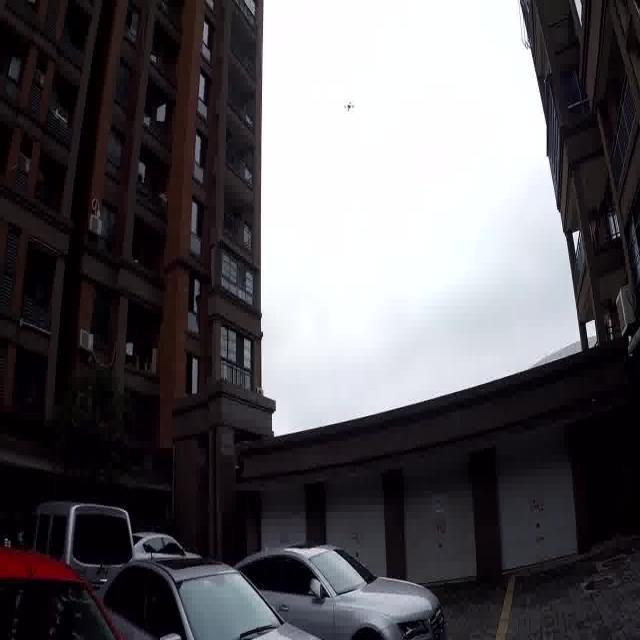drone: (341, 98, 357, 116)
